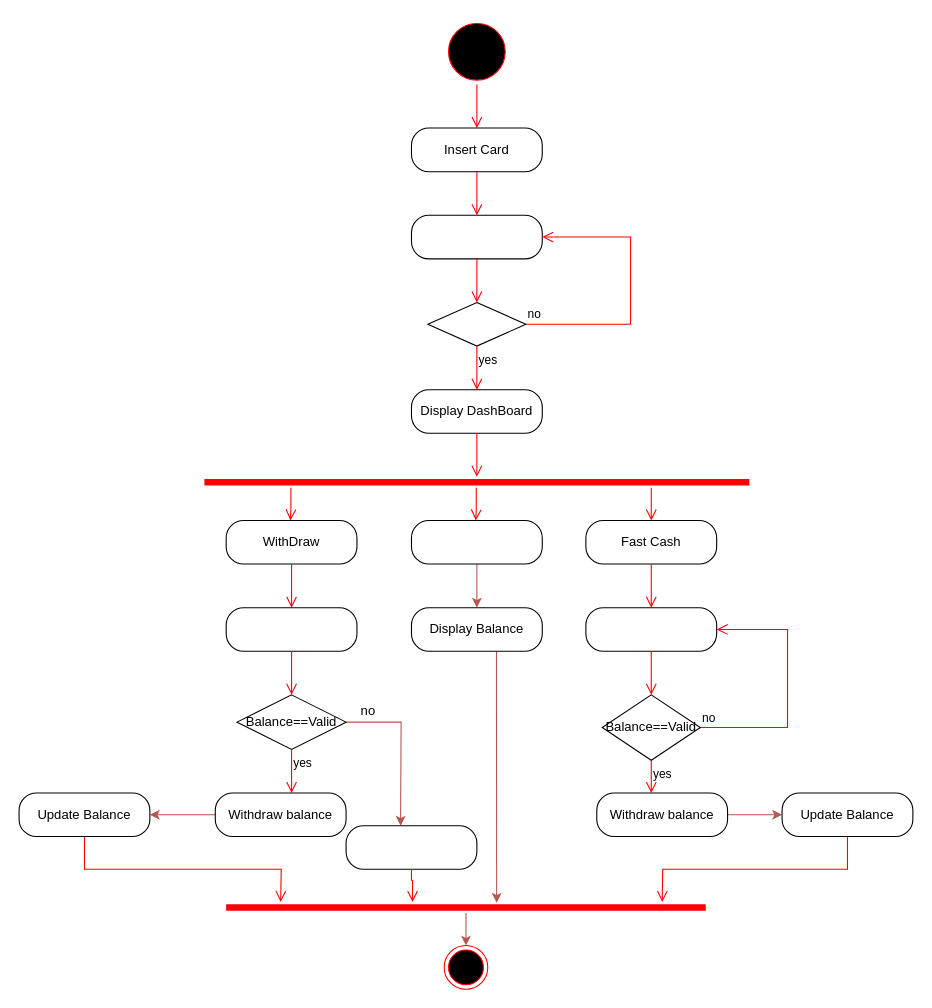
This 932x1008 diagram has some shape labels left out. Here are the shapes that lost their labels. From the top down, the centre of each, then its label:
the point at 476,236: Insert pin
the point at 476,323: Pin == Valid
the point at 476,541: Balance Enquiry
the point at 291,629: Enter Balance
the point at 651,629: Select Balance
the point at 411,847: Eject Card
